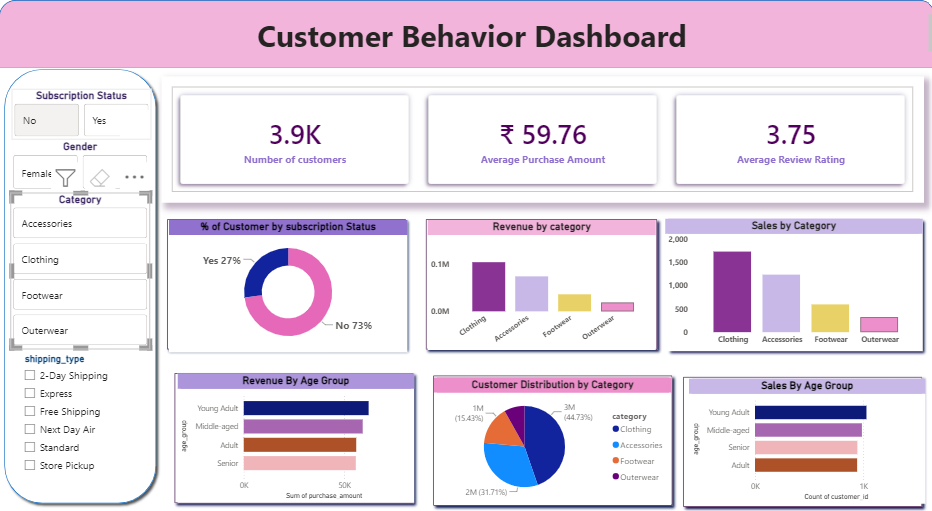

What the dashboard file says about the page in this screenshot:
{"tool":"powerbi","page":{"name":"Page 1","canvas":[1500,820],"ordinal":0},"visuals":[{"type":"cardVisual","fields":{"Data":["my_data.Number of customers","my_data.Average Purchase Amount","my_data.Average Review Rating"]},"box":[260,122.5,1220,202.5],"z":0},{"type":"shape","box":[0,0,1500,108.3],"z":1000},{"type":"textbox","box":[20,18.3,1480,71.7],"z":2000},{"type":"shape","box":[260,342,400,226],"z":3000},{"type":"donutChart","title":"% of Customer by subscription Status","fields":{"Category":["my_data.subscription_status"],"Y":["CountNonNull(my_data.customer_id)"]},"box":[271.7,351.7,381.7,211.7],"z":4000},{"type":"shape","box":[1062,342,424,228],"z":5000},{"type":"shape","box":[674,342,388,226],"z":6000},{"type":"clusteredColumnChart","title":"Revenue by category","fields":{"Category":["my_data.category"],"Y":["Sum(my_data.purchase_amount)"]},"box":[685,351.7,365,208.3],"z":7000},{"type":"clusteredColumnChart","title":"Sales by Category","fields":{"Category":["my_data.category"],"Y":["CountNonNull(my_data.customer_id)"]},"box":[1066.7,350,411.7,211.7],"z":8000},{"type":"shape","box":[0,102,260,712],"z":9000},{"type":"advancedSlicerVisual","title":"Subscription Status","fields":{"Values":["my_data.subscription_status"]},"box":[20,142,224,82],"z":10000},{"type":"advancedSlicerVisual","title":"Gender","fields":{"Values":["my_data.gender"]},"box":[18,224,224,84],"z":11000},{"type":"advancedSlicerVisual","title":"Category","fields":{"Values":["my_data.category"]},"box":[18,308,224,252],"z":12000},{"type":"slicer","title":"Category","fields":{"Values":["my_data.shipping_type"]},"box":[28,560,208,218],"z":13000},{"type":"shape","box":[272,588,400,226],"z":13002},{"type":"clusteredBarChart","title":"Revenue By Age Group","fields":{"Category":["my_data.age_group"],"Y":["Sum(my_data.purchase_amount)"]},"box":[286,598,378,206],"z":13003},{"type":"shape","box":[1086,594,400,226],"z":13004},{"type":"shape","box":[686,592,400,226],"z":13005},{"type":"pieChart","title":"Customer Distribution by Category","fields":{"Category":["my_data.category"],"Y":["Sum(my_data.customer_id)"]},"box":[696,604,380,202],"z":13006},{"type":"clusteredBarChart","title":"Sales By Age Group","fields":{"Category":["my_data.age_group"],"Y":["CountNonNull(my_data.customer_id)"]},"box":[1104,606,378,200],"z":13007}]}

Visuals, with their boxes in screenshot pixels (x1, y1, x2, y2), scaled from the page's 1500x820 canvas onto the 932x511 screenshot:
cardVisual - my_data.Number of customers x my_data.Average Purchase Amount: BBox(162, 76, 920, 203)
shape: BBox(0, 0, 931, 67)
textbox: BBox(12, 11, 931, 56)
shape: BBox(162, 213, 410, 354)
"% of Customer by subscription Status" donutChart: BBox(169, 219, 406, 351)
shape: BBox(660, 213, 923, 355)
shape: BBox(419, 213, 660, 354)
"Revenue by category" clusteredColumnChart: BBox(426, 219, 652, 349)
"Sales by Category" clusteredColumnChart: BBox(663, 218, 919, 350)
shape: BBox(0, 64, 162, 507)
"Subscription Status" advancedSlicerVisual: BBox(12, 88, 152, 140)
"Gender" advancedSlicerVisual: BBox(11, 140, 150, 192)
"Category" advancedSlicerVisual: BBox(11, 192, 150, 349)
"Category" slicer: BBox(17, 349, 147, 485)
shape: BBox(169, 366, 418, 507)
"Revenue By Age Group" clusteredBarChart: BBox(178, 373, 413, 501)
shape: BBox(675, 370, 923, 510)
shape: BBox(426, 369, 675, 510)
"Customer Distribution by Category" pieChart: BBox(432, 376, 669, 502)
"Sales By Age Group" clusteredBarChart: BBox(686, 378, 921, 502)
